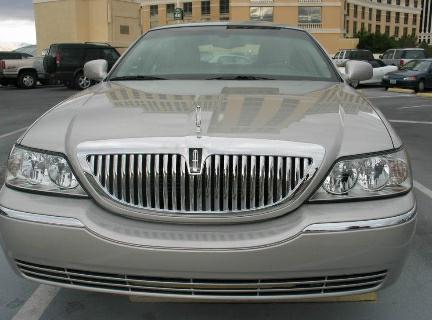林肯-城市: (2, 17, 425, 310)
